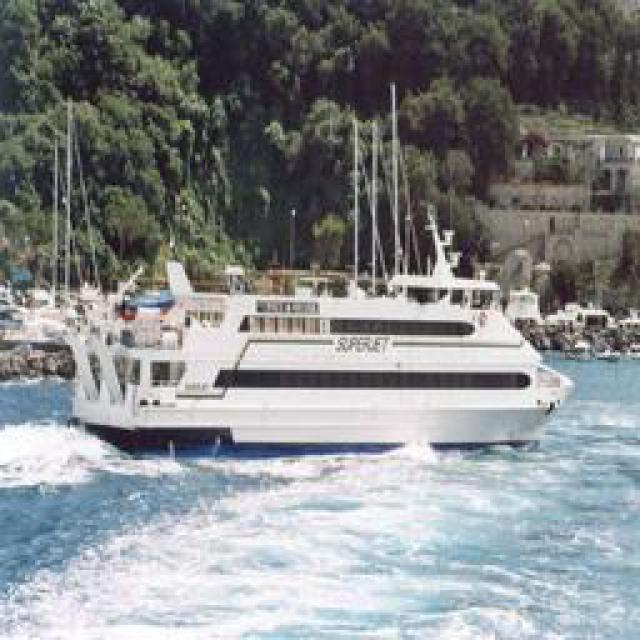Ship: (61, 252, 576, 460)
